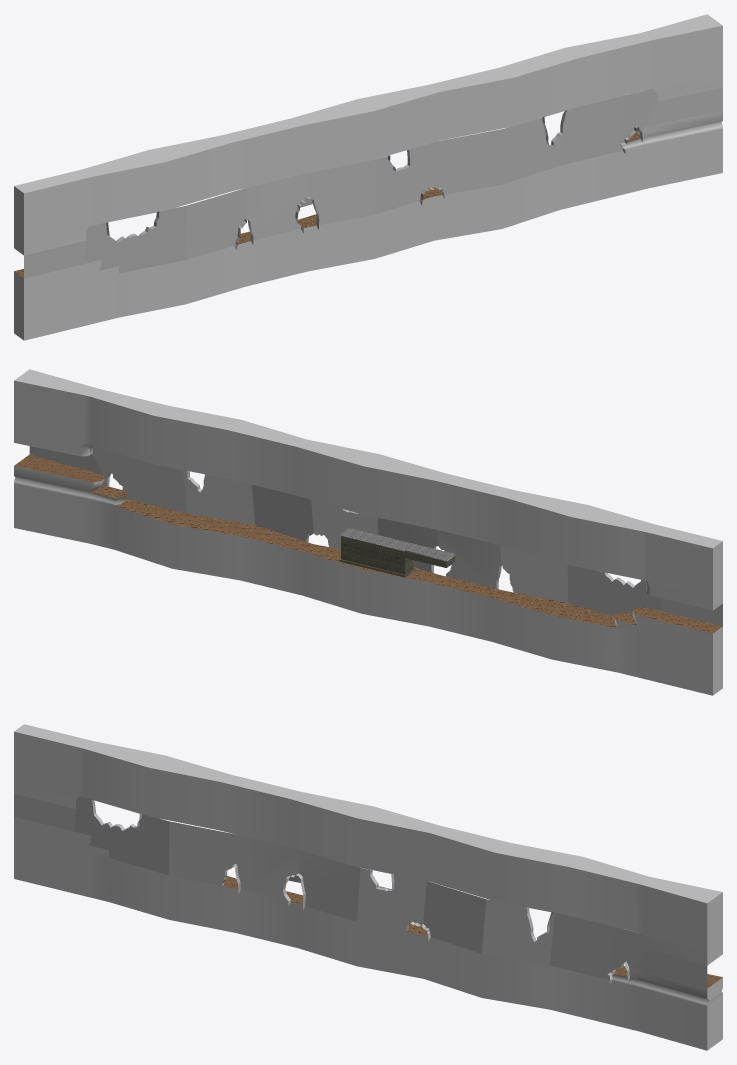
Rendered from Room3.fbx.
3 renders of one model, top to bottom at view 1: azimuth 30°, elevation 25°; view 2: azimuth 150°, elevation 25°; view 3: azimuth 330°, elevation 25°, orthographic.
Parts seen in each view (by area): view 1: polySurface310; view 2: polySurface310; view 3: polySurface310.
Part boxes in pixels (bbox=[...]): polySurface310: bbox=[14, 14, 722, 340]; polySurface310: bbox=[14, 369, 722, 695]; polySurface310: bbox=[14, 724, 722, 1050].
Bounding box in the file's own units: 39.59 × 8 × 1.99.
